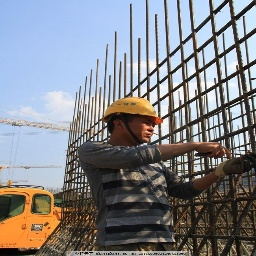helmet: (104, 96, 166, 120)
no-vest: (80, 143, 186, 246)
person: (77, 95, 194, 252)
